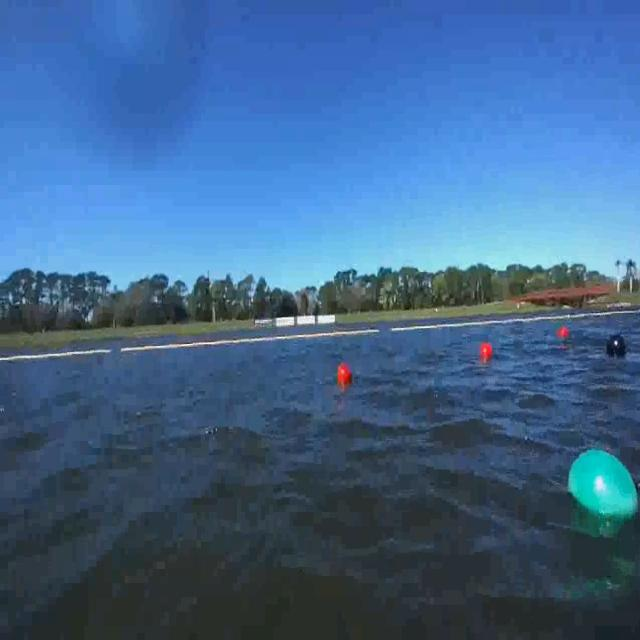black-buoy: (608, 336, 629, 358)
green-buoy: (566, 446, 640, 540)
red-buoy: (339, 364, 354, 386), (481, 343, 494, 360), (559, 326, 570, 339)
